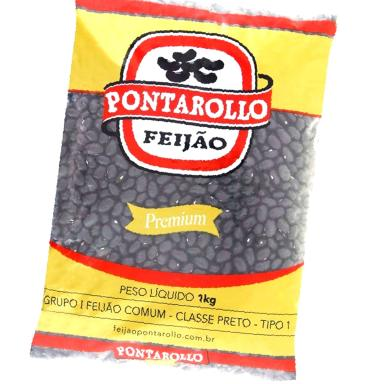beans package: (32, 0, 335, 379)
